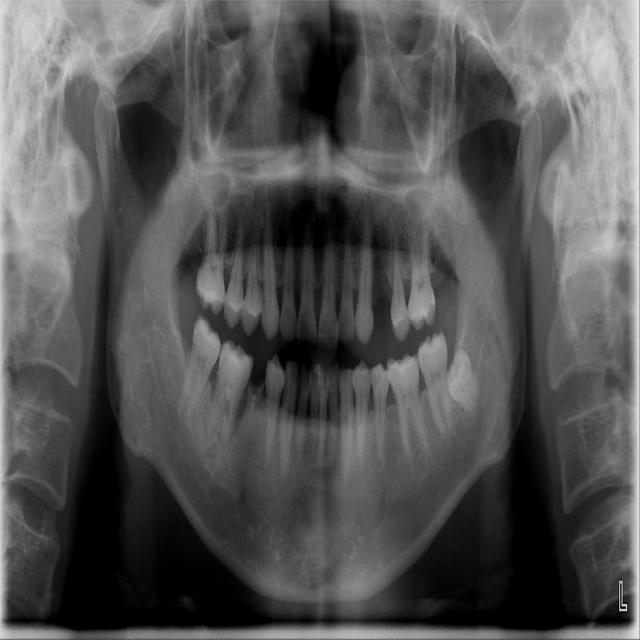Missing teeth: (371, 294, 396, 343)
Periapical lesion: (218, 386, 246, 452)
Root Piece: (244, 381, 267, 441)
